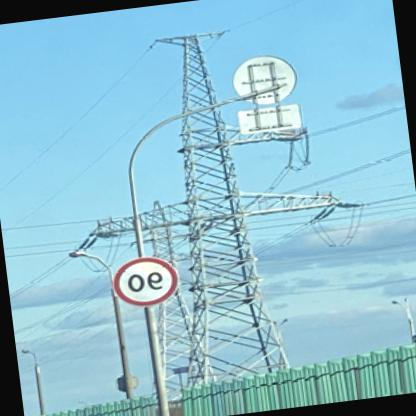speedlimit: (112, 250, 184, 308)
